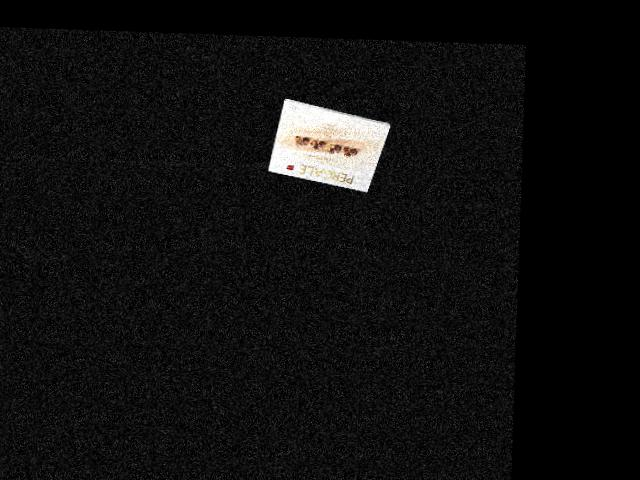chocolate: (272, 94, 386, 191)
